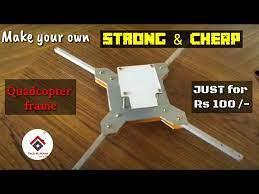drone: (53, 46, 243, 163)
